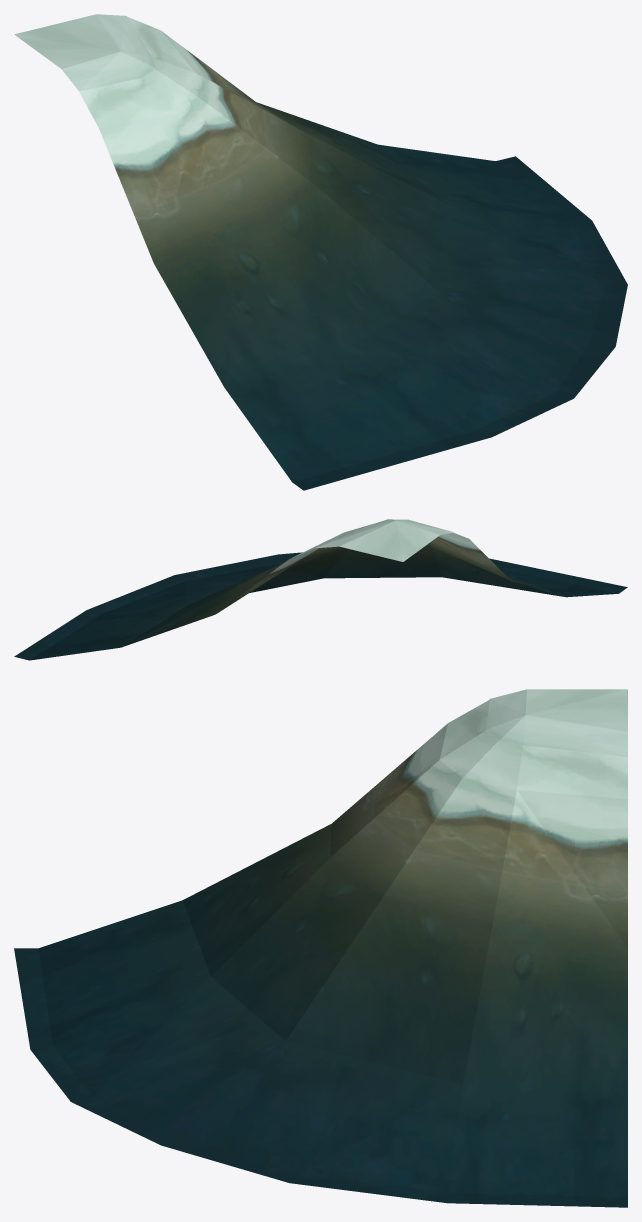
Rendered from tundra_convex_riverbed01.fbx.
The picture shows the model from 3 angles, top to bottom: view 1: azimuth 30°, elevation 25°; view 2: azimuth 150°, elevation 25°; view 3: azimuth 270°, elevation 25°; orthographic projection. The views are drawn at different scales.
Parts seen in each view (by area): view 1: obj2.001; view 2: obj2.001; view 3: obj2.001.
Part boxes in pixels (left/top/right/bottom): obj2.001: left=14, top=14, right=627, bottom=490; obj2.001: left=14, top=519, right=627, bottom=660; obj2.001: left=14, top=689, right=627, bottom=1207.
Size of the model in its own units: 8.55 by 4.04 by 8.55.
